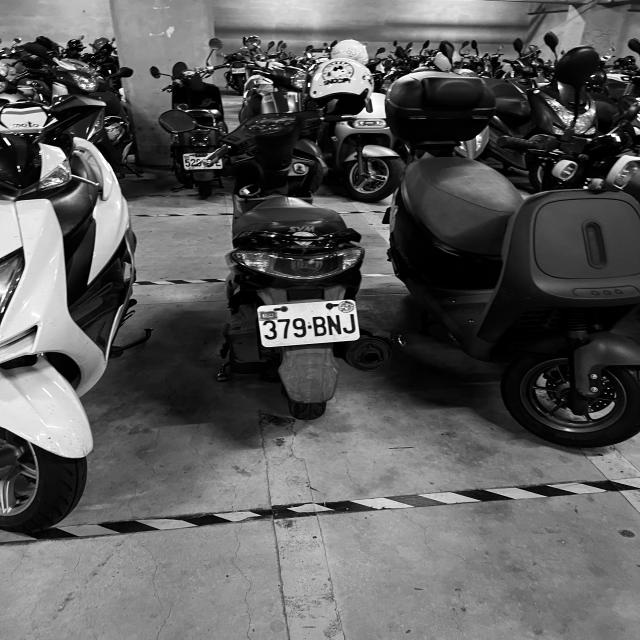-: (308, 325, 312, 329)
3: (260, 319, 278, 341)
5: (184, 159, 190, 167)
7: (278, 318, 292, 340)
9: (291, 318, 308, 338)
B: (311, 315, 327, 337)
J: (342, 313, 356, 335)
N: (327, 314, 342, 336)
plate: (260, 306, 363, 342)
